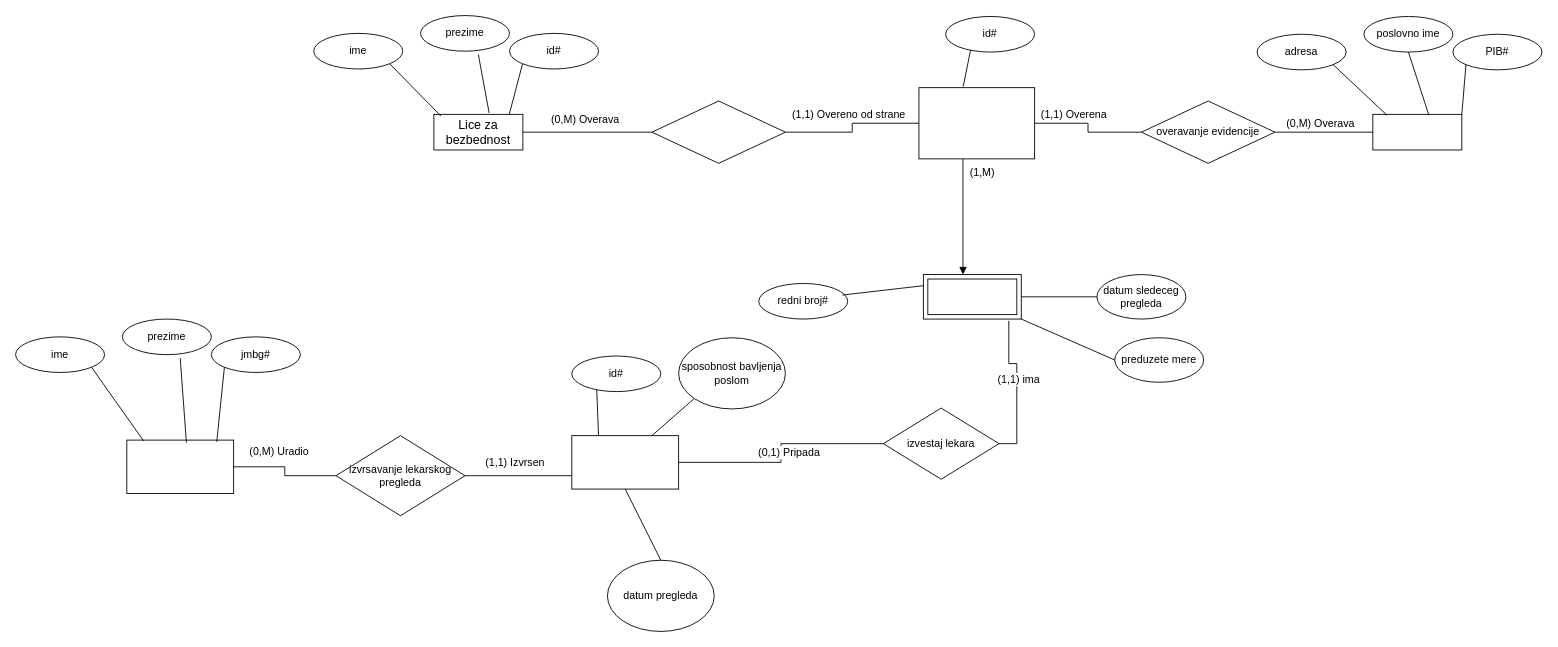
This 1558x647 diagram has some shape labels left out. The box of each missing label's shape, as (x1, y1, x2, y2) in pixels:
Evidencija o izvrsenim lekarskim pregledima: (918, 87, 1035, 159)
Poslodavac: (1372, 113, 1462, 150)
Prethodni lekarski izvestaj: (571, 435, 679, 489)
Stavka evidencije: (922, 274, 1021, 319)
Vodjenje evidencije: (651, 100, 785, 163)
Zaposleni: (126, 439, 234, 494)
